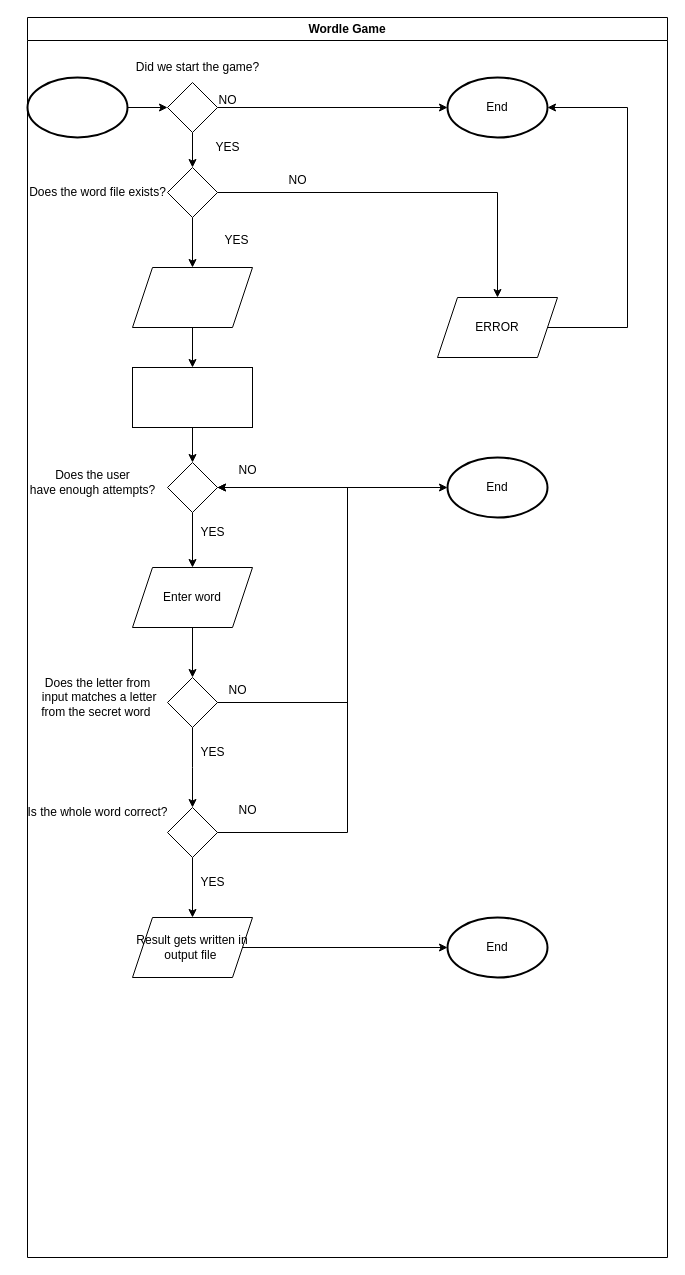
The diagram is 685 pixels wide and 1275 high, and some of its shapes have lost their labels. The centre of each missing label's shape, as x and y in pixels:
Game selects random word from file: the point at 192,397
Get the word file: the point at 192,297
Start: the point at 77,107
